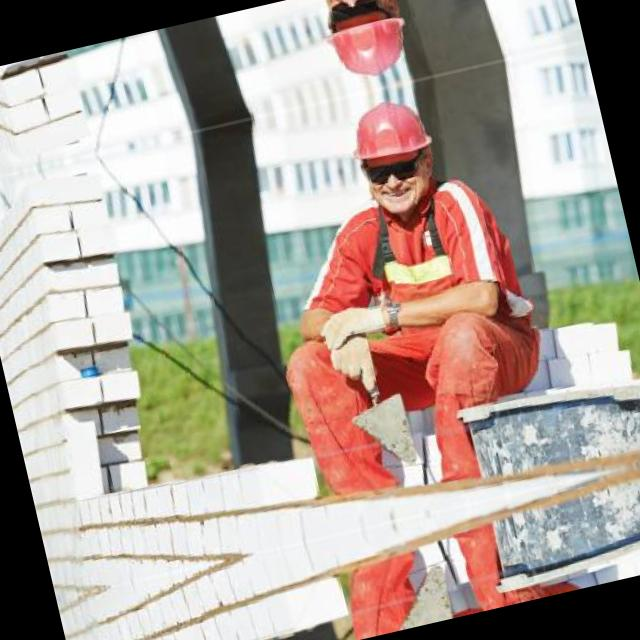helmet: (328, 81, 450, 227), (302, 0, 421, 96)
